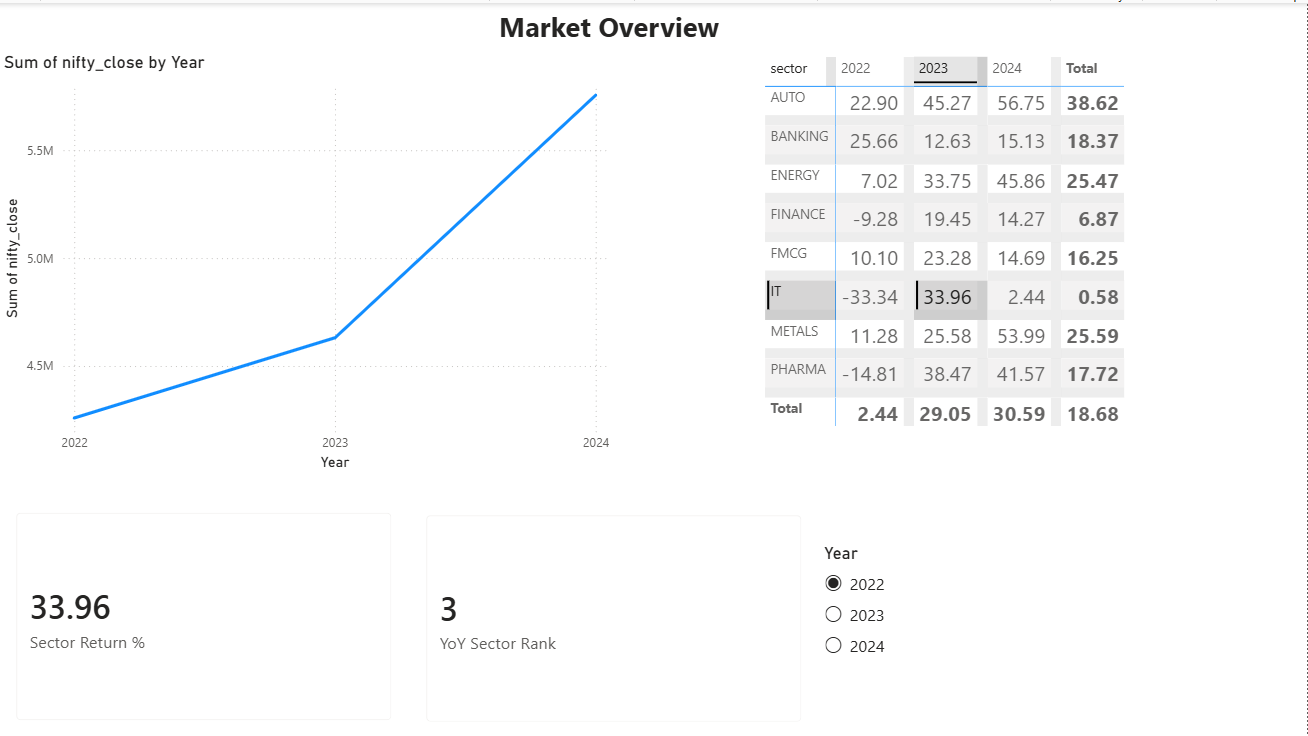

What the dashboard file says about the page in this screenshot:
{"tool":"powerbi","page":{"name":"Page 1","canvas":[1280,720],"ordinal":0},"visuals":[{"type":"lineChart","fields":{"Category":["public index_returns.date.Variation.Date Hierarchy.Year","public index_returns.date.Variation.Date Hierarchy.Quarter","public index_returns.date.Variation.Date Hierarchy.Month","public index_returns.date.Variation.Date Hierarchy.Day"],"Y":["Sum(public index_returns.nifty_close)"]},"box":[0,47.2,601.9,414.8],"z":0},{"type":"pivotTable","fields":{"Rows":["public sector_returns.sector"],"Columns":["public sector_returns.date.Variation.Date Hierarchy.Year","public sector_returns.date.Variation.Date Hierarchy.Quarter","public sector_returns.date.Variation.Date Hierarchy.Month","public sector_returns.date.Variation.Date Hierarchy.Day"],"Values":["public sector_returns.Sector Return %"]},"box":[654.4,47.4,407,380.7],"z":1000},{"type":"cardVisual","fields":{"Data":["public sector_returns.Sector Return %"]},"box":[0,482.2,401.3,237.7],"z":2000},{"type":"cardVisual","fields":{"Data":["public sector_returns.YoY Sector Rank"]},"box":[401.3,483.9,401.3,236],"z":3000},{"type":"listSlicer","fields":{"Values":["dates.Date.Variation.Date Hierarchy.Year"]},"box":[802.5,527.7,403,192.2],"z":4000},{"type":"textbox","box":[483.9,0,234.4,47.2],"z":5000}]}

Visuals, with their boxes in screenshot pixels (x1, y1, x2, y2), scaled from the page's 1280x720 canvas onto the 1308x736 screenshot:
lineChart - public index_returns.date.Variation.Date Hierarchy.Year x public index_returns.date.Variation.Date Hierarchy.Quarter: region(0, 48, 615, 472)
pivotTable - public sector_returns.sector x public sector_returns.date.Variation.Date Hierarchy.Year: region(669, 48, 1085, 438)
cardVisual - public sector_returns.Sector Return %: region(0, 493, 410, 735)
cardVisual - public sector_returns.YoY Sector Rank: region(410, 495, 820, 735)
listSlicer - dates.Date.Variation.Date Hierarchy.Year: region(820, 539, 1232, 735)
textbox: region(494, 0, 734, 48)
